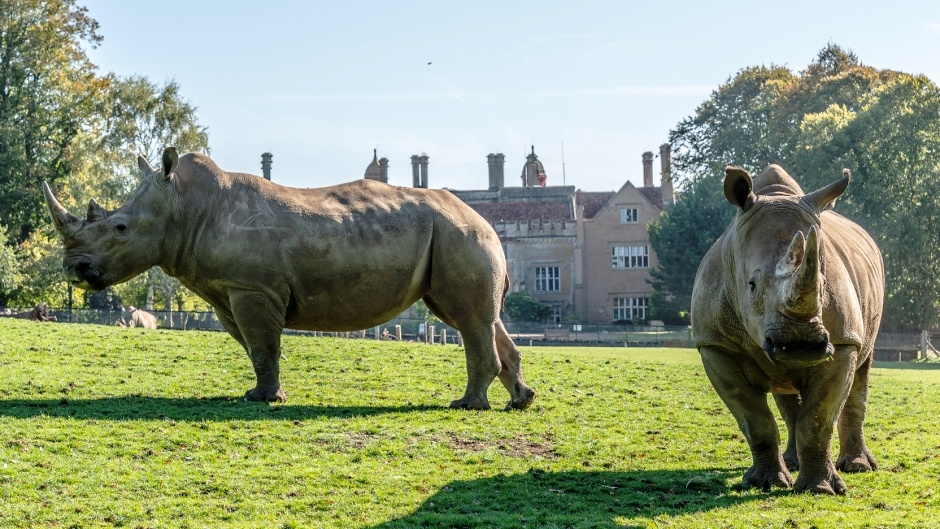rhino: (40, 147, 536, 409), (692, 158, 885, 497)
